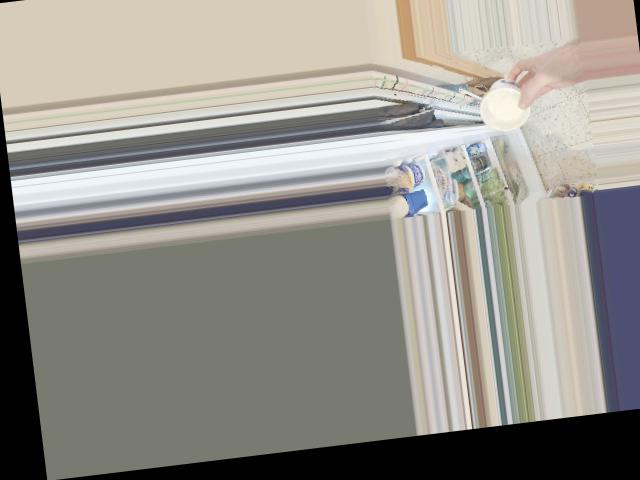cotage: (474, 70, 529, 130)
